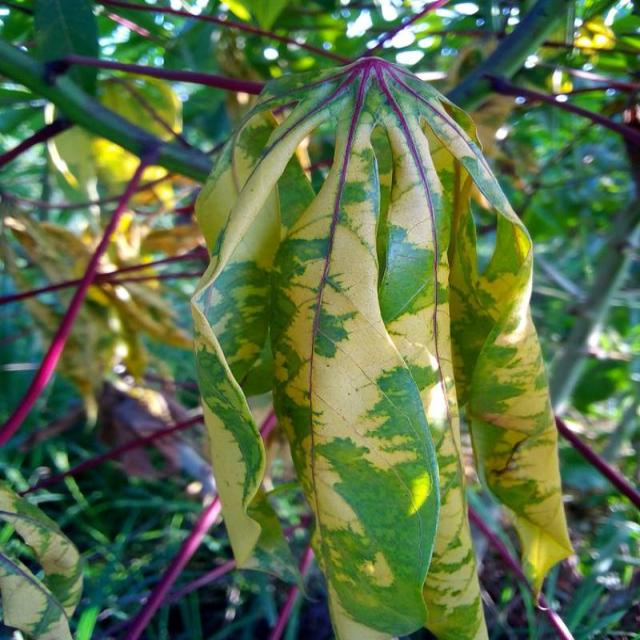cassava leaf: (190, 54, 574, 638)
